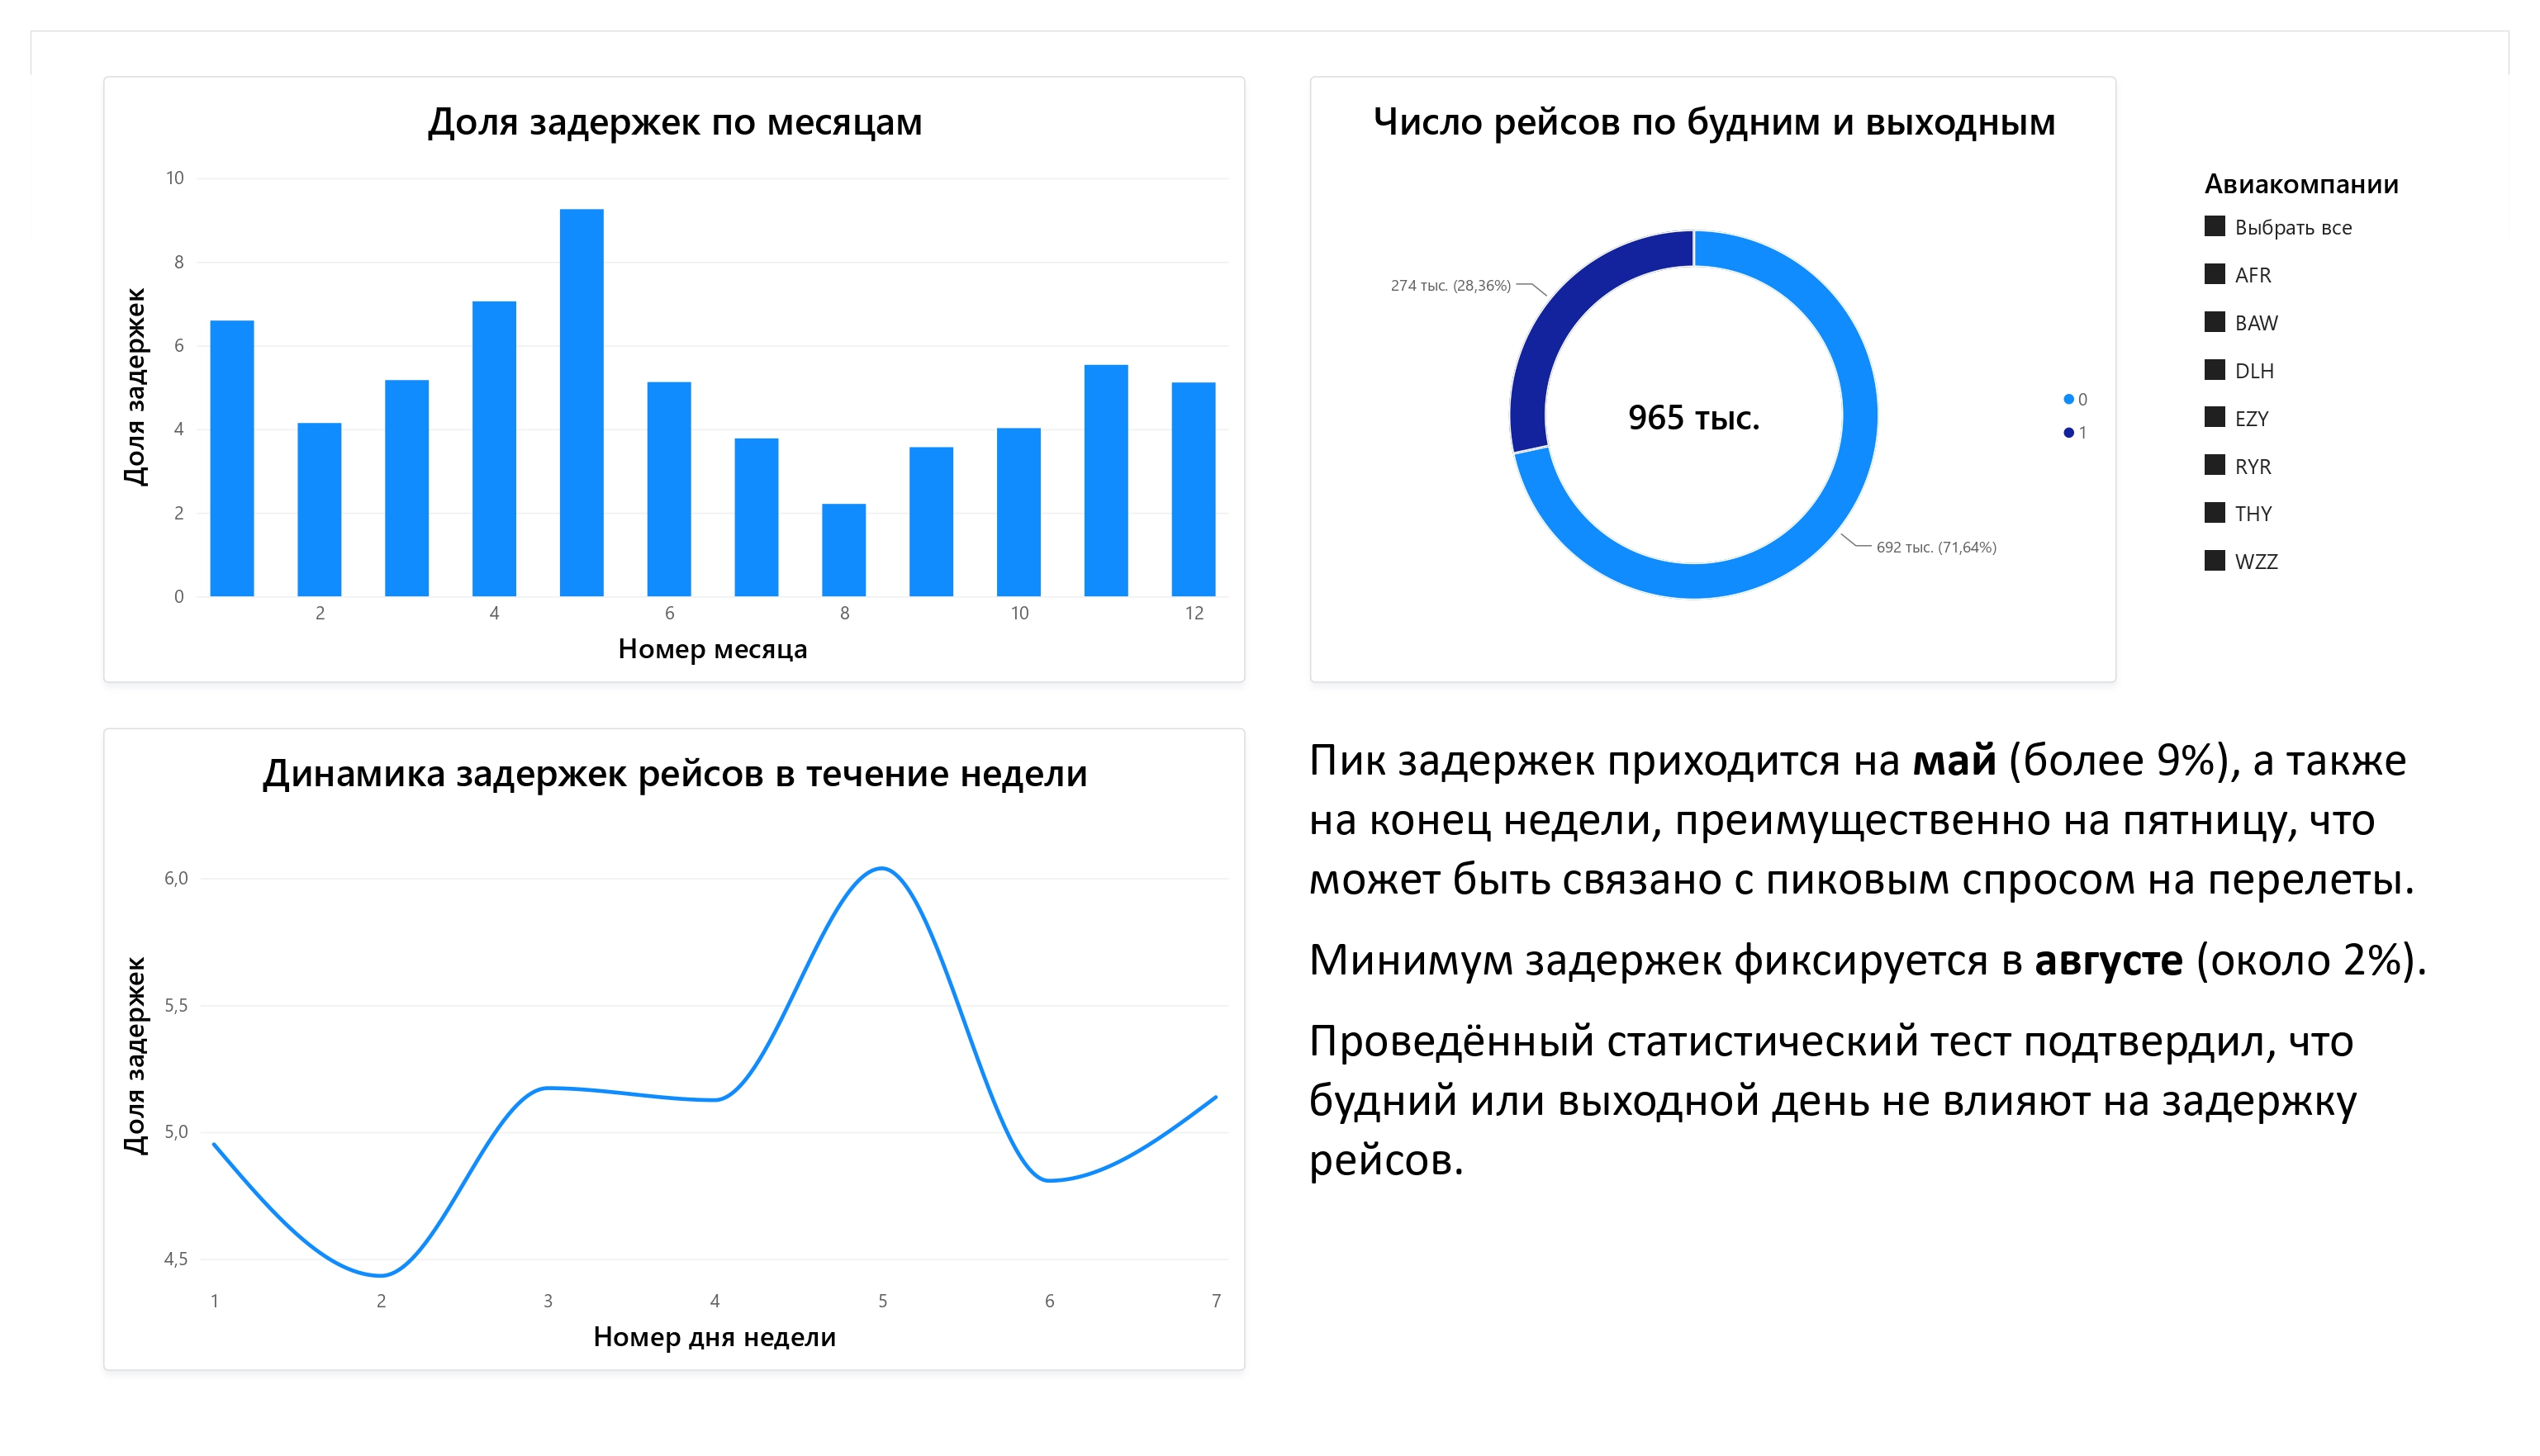

This screenshot's page, from the dashboard's own definition file:
{"tool":"powerbi","page":{"name":"Временные паттерны","canvas":[1920,1080],"ordinal":2},"visuals":[{"type":"columnChart","title":"Доля задержек по месяцам","fields":{"Category":["flights.month_num"],"Y":["flights.Late Rate %"]},"box":[55.6,35,885,470],"z":0},{"type":"lineChart","title":"Динамика задержек рейсов в течение недели","fields":{"Category":["flights.weekday_num"],"Y":["flights.Late Rate %"]},"box":[55.6,540,885,497.5],"z":1000},{"type":"donutChart","title":"Число рейсов по будним и выходным","fields":{"Category":["flights.is_weekend"],"Y":["flights.Total Flights"]},"box":[990.6,35,625,470],"z":2000},{"type":"slicer","fields":{"Values":["flights.icao_operator"]},"box":[1675.6,102.5,178.3,335],"z":3000},{"type":"textbox","box":[990,540,887.5,497.5],"z":4000}]}

Visuals, with their boxes on the page's 1920x1080 design canvas (x1, y1, x2, y2). These are canvas units, not pixel positions in the 2540x1456 screenshot, which may show the page scaled, cropped or inside an application window:
"Доля задержек по месяцам" columnChart: box=[56, 35, 941, 505]
"Динамика задержек рейсов в течение недели" lineChart: box=[56, 540, 941, 1038]
"Число рейсов по будним и выходным" donutChart: box=[991, 35, 1616, 505]
slicer - flights.icao_operator: box=[1676, 102, 1854, 438]
textbox: box=[990, 540, 1878, 1038]
